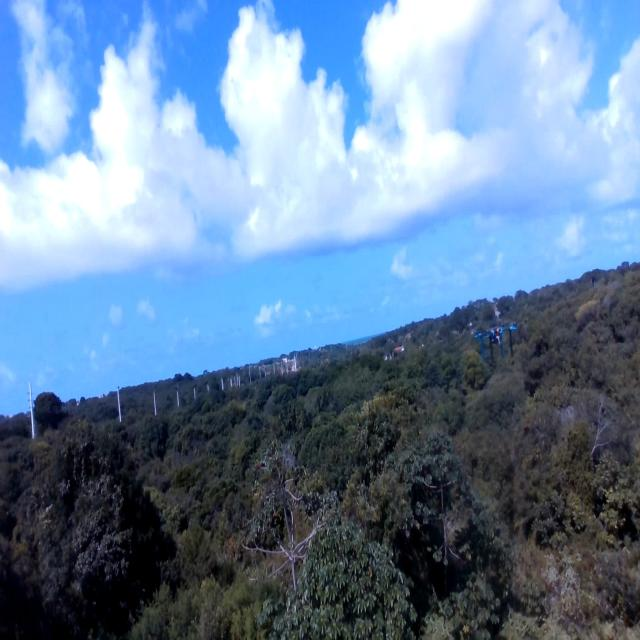-uav-: (466, 316, 532, 374)
